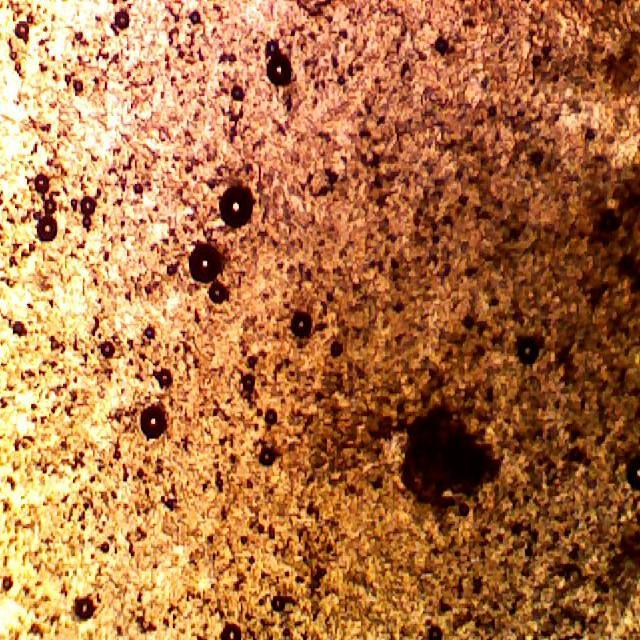microbeads: (214, 182, 258, 232), (184, 242, 220, 286), (264, 49, 296, 91), (138, 401, 168, 444)
